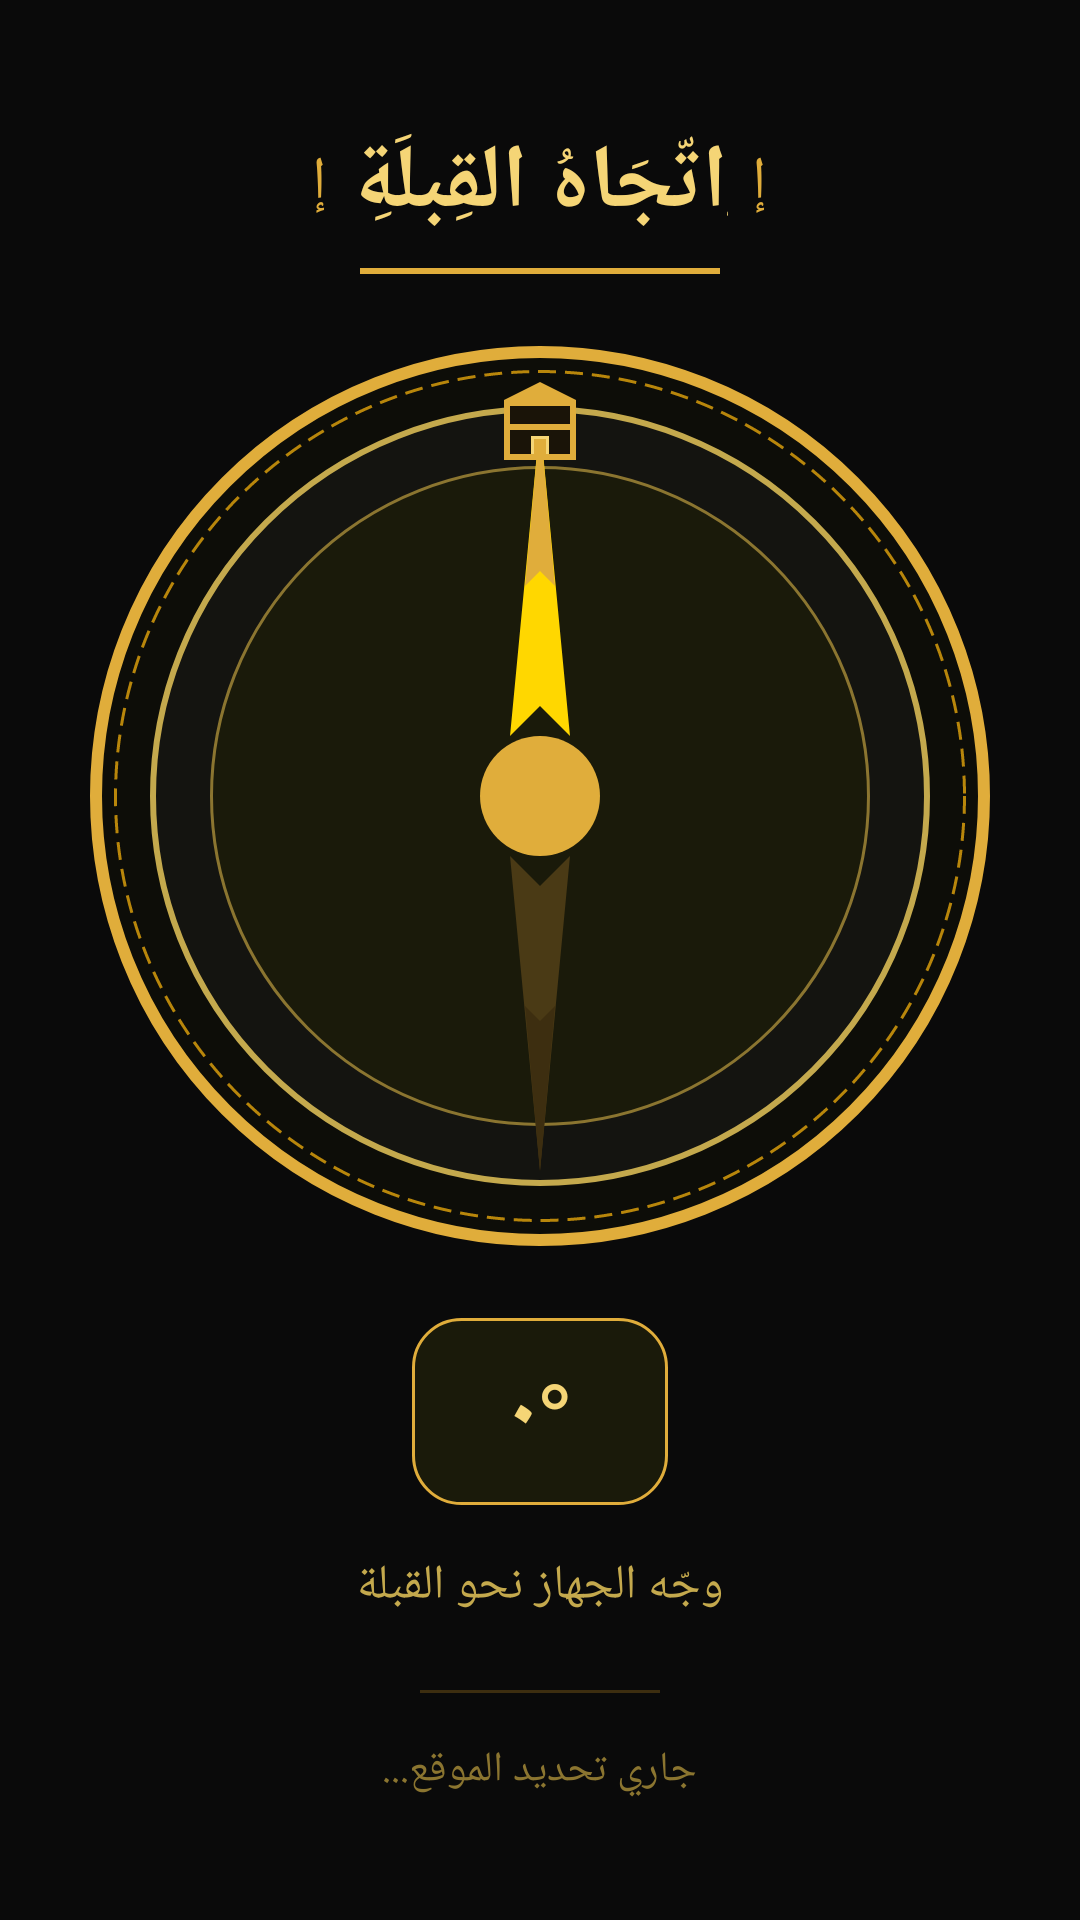

Where icons sit on this 1080 x 1920 app screen, as (x1, y1, x2, y2):
الكعبة المشرفة: (486, 370, 594, 478)
